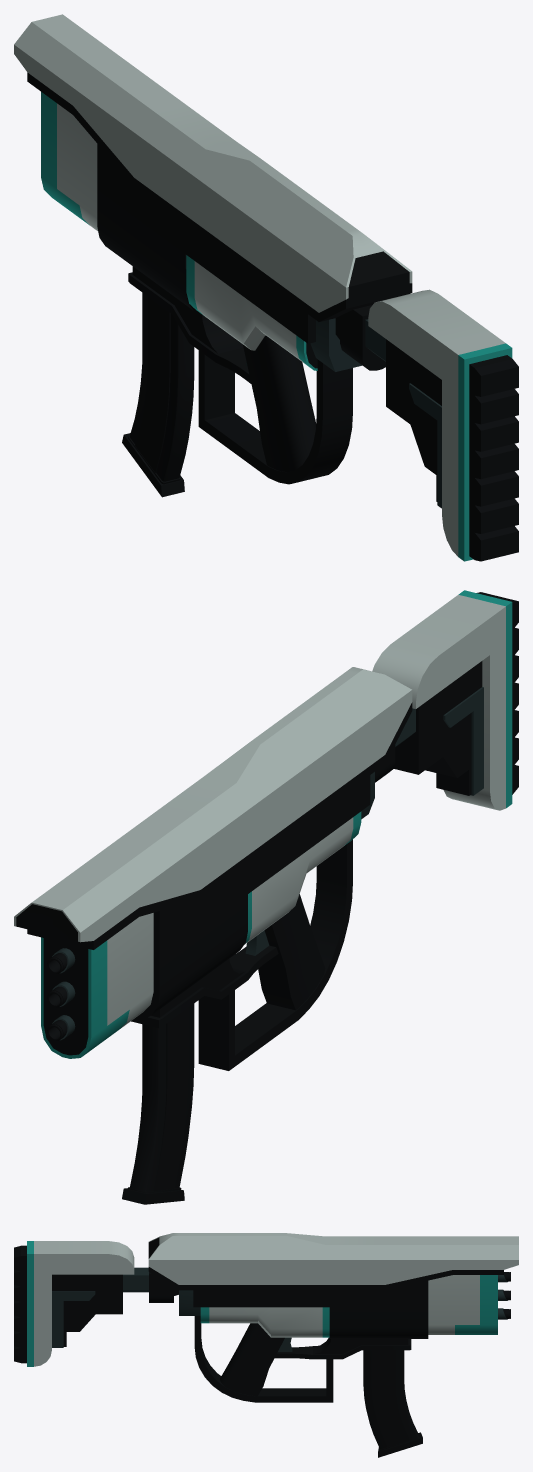
Rendered from scatter-cannon.glb.
3 renders of one model, top to bottom at view 1: azimuth 30°, elevation 25°; view 2: azimuth 150°, elevation 25°; view 3: azimuth 270°, elevation 25°, orthographic. The views are drawn at different scales.
Parts seen in each view (by area): view 1: AR_3, Magazine_AR_2; view 2: AR_3, Magazine_AR_2; view 3: AR_3, Magazine_AR_2.
Boxes of the visible parts, x1,y1,x2,y2 form: AR_3: [14, 14, 518, 561]; Magazine_AR_2: [122, 292, 194, 497]; AR_3: [14, 590, 518, 1070]; Magazine_AR_2: [122, 1003, 194, 1204]; AR_3: [14, 1233, 518, 1402]; Magazine_AR_2: [363, 1350, 422, 1457].
Bounding box in the file's own units: 0.131 × 0.7452 × 1.55.
